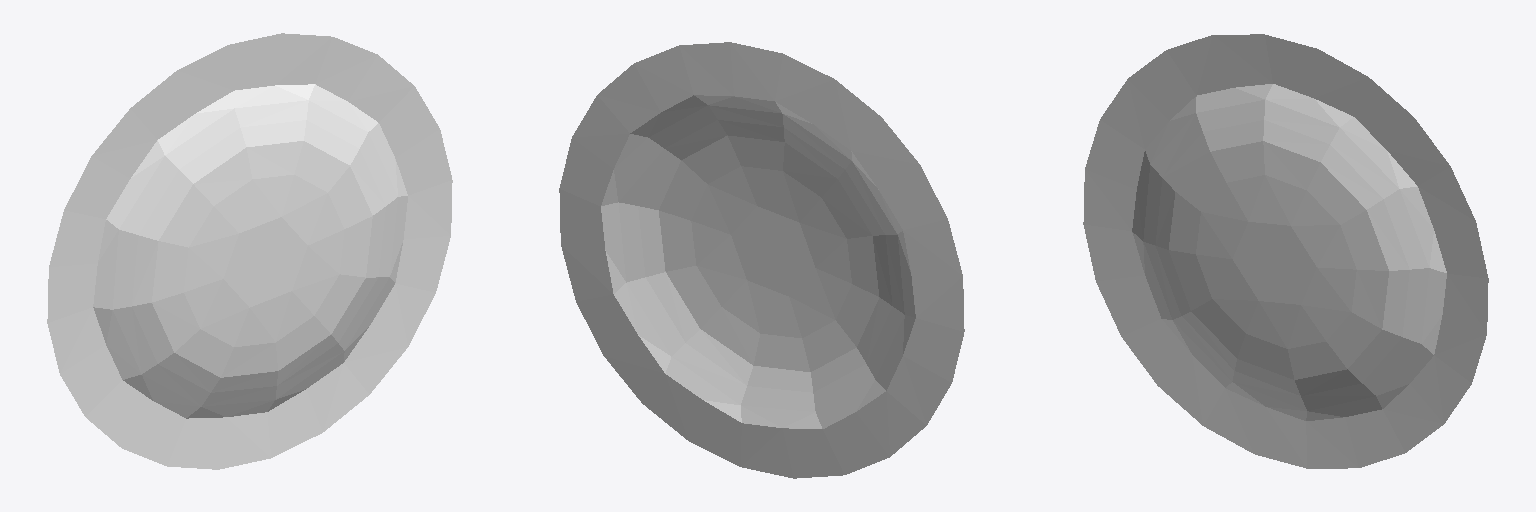
The model's file is beach.obj.
The picture shows the model from 3 angles: view 1: azimuth 30°, elevation 25°; view 2: azimuth 150°, elevation 25°; view 3: azimuth 330°, elevation 25°; orthographic projection.
Parts seen in each view (by area): view 1: beach_Mesh.002; view 2: beach_Mesh.002; view 3: beach_Mesh.002.
Boxes of the visible parts, <box> form: beach_Mesh.002: <box>47,33,452,469</box>; beach_Mesh.002: <box>559,42,964,478</box>; beach_Mesh.002: <box>1083,34,1488,468</box>.
Bounding box in the file's own units: 17.04 × 17.04 × 1.09.